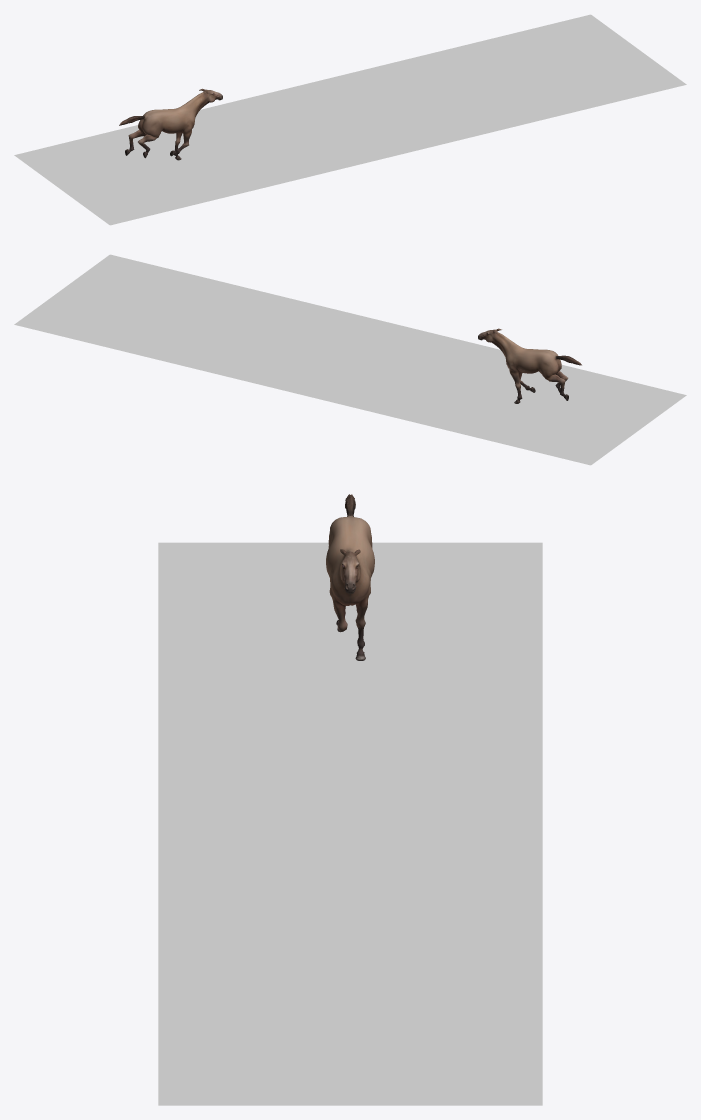
Rendered from horse_run.glb.
3 renders of one model, top to bottom at view 1: azimuth 30°, elevation 25°; view 2: azimuth 150°, elevation 25°; view 3: azimuth 270°, elevation 25°, orthographic. The views are drawn at different scales.
Visible parts, largest first — view 1: pPlaneShape1_2_0, polySurface2Shape; view 2: pPlaneShape1_2_0, polySurface2Shape; view 3: pPlaneShape1_2_0, polySurface2Shape.
Boxes of the visible parts, box(x1,y1,x2,y2) form: pPlaneShape1_2_0: box(14, 14, 686, 225); polySurface2Shape: box(119, 88, 222, 160); pPlaneShape1_2_0: box(14, 254, 686, 465); polySurface2Shape: box(478, 328, 581, 403); pPlaneShape1_2_0: box(158, 542, 542, 1105); polySurface2Shape: box(326, 494, 374, 660).
Bounding box in the file's own units: 174 × 18.93 × 50.16.
2 materials, 1 textured.
